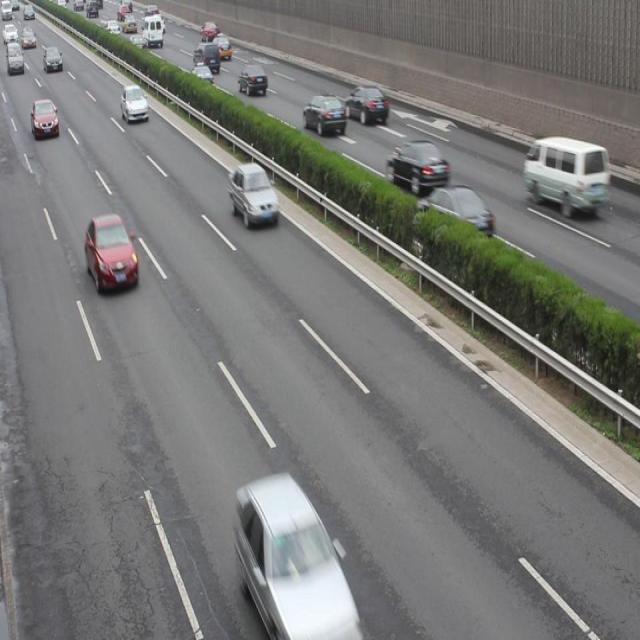car: (235, 475, 361, 640), (85, 215, 139, 295), (416, 185, 493, 240), (228, 161, 279, 227), (387, 140, 447, 194), (301, 95, 346, 137), (342, 85, 389, 124), (120, 85, 148, 125), (32, 100, 60, 138), (237, 64, 267, 96), (208, 32, 231, 60), (190, 64, 212, 87), (42, 46, 62, 70), (128, 33, 147, 55), (201, 20, 216, 44)
truck: (524, 135, 610, 216), (192, 41, 219, 72), (1, 42, 25, 74), (141, 14, 163, 46)
